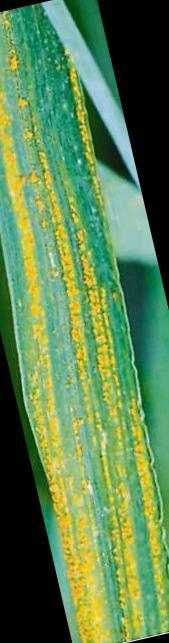Wheat: (4, 64, 84, 297), (68, 436, 152, 636), (26, 310, 123, 415)
